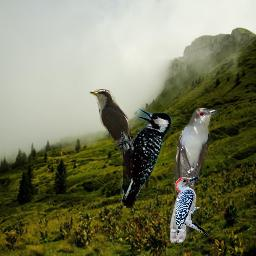Cuckoo: (168, 106, 219, 243), (89, 89, 135, 182)
Woodpecker: (115, 108, 174, 208), (172, 174, 212, 240)
